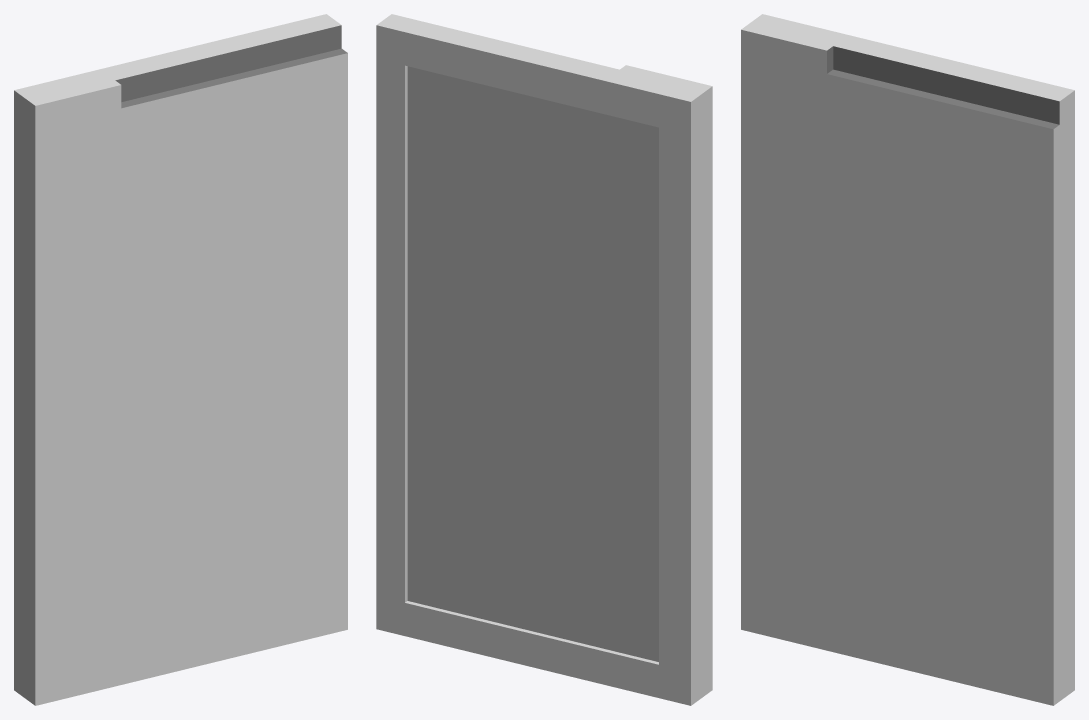
The model's file is Refrigerator3_C1_08.fbx.
3 renders of one model, left to right at view 1: azimuth 30°, elevation 25°; view 2: azimuth 150°, elevation 25°; view 3: azimuth 330°, elevation 25°, orthographic.
Visible parts, largest first — view 1: Refrigerator3_C1_08; view 2: Refrigerator3_C1_08; view 3: Refrigerator3_C1_08.
Part boxes in pixels (<box>): Refrigerator3_C1_08: <box>14,14,347,705</box>; Refrigerator3_C1_08: <box>376,14,712,705</box>; Refrigerator3_C1_08: <box>741,14,1074,705</box>.
Bounding box in the file's own units: 42.12 × 77.27 × 5.
